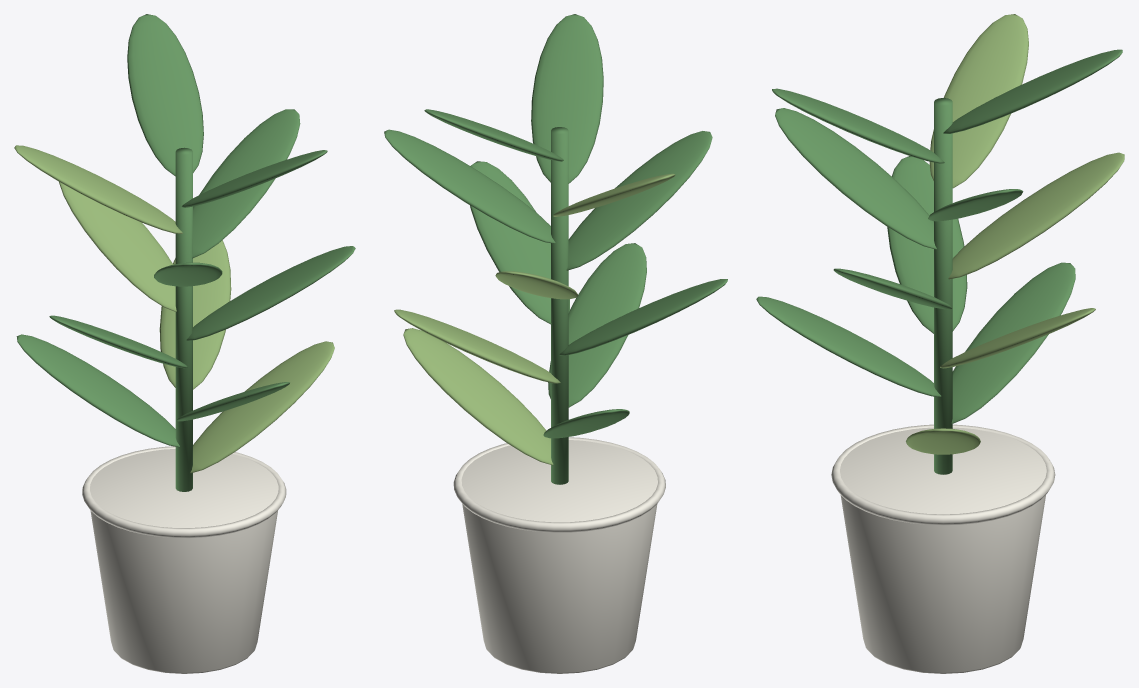
Rendered from atelier-large-floor-plant.glb.
3 renders of one model, left to right at view 1: azimuth 30°, elevation 25°; view 2: azimuth 150°, elevation 25°; view 3: azimuth 270°, elevation 25°, orthographic. The views are drawn at different scales.
Parts seen in each view (by area): view 1: ceramic.038, leaf.002, leafLight.002; view 2: leaf.002, ceramic.038, leafLight.002; view 3: ceramic.038, leaf.002, leafLight.002.
Boxes of the visible parts, x1,y1,x2,y2 form: ceramic.038: (82,446,286,673); leaf.002: (16,14,355,491); leafLight.002: (14,145,334,473); leaf.002: (384,14,727,484); ceramic.038: (453,437,665,673); leafLight.002: (394,173,675,465); ceramic.038: (831,424,1055,673); leaf.002: (756,49,1122,474); leafLight.002: (906,14,1124,454).
Size of the model in its own units: 1.01 by 1.83 by 1.
